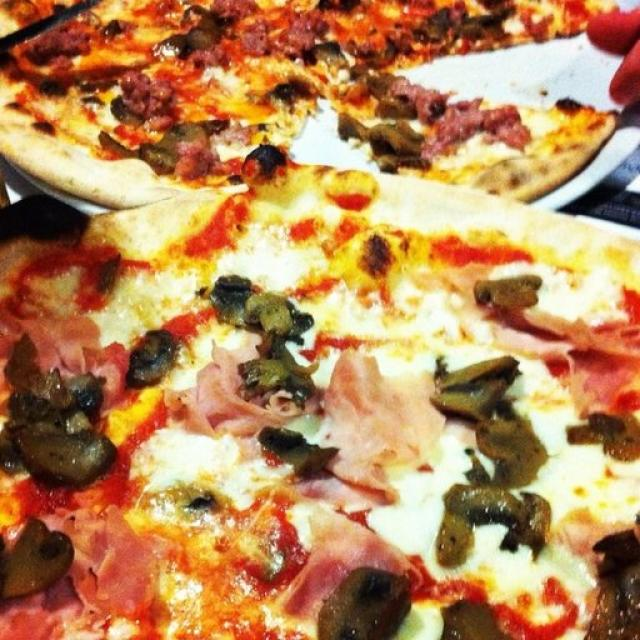Beef: (423, 102, 518, 161), (21, 20, 93, 64), (115, 70, 168, 116), (385, 80, 448, 113), (173, 144, 215, 184), (280, 10, 324, 48), (237, 17, 269, 54), (385, 27, 421, 50)
Ham: (285, 342, 443, 514), (0, 503, 175, 640), (295, 511, 441, 640), (488, 294, 640, 401), (173, 344, 317, 436), (24, 312, 130, 393), (436, 514, 473, 564)
Mushrooms: (5, 370, 120, 492), (312, 563, 408, 640), (0, 507, 71, 602), (334, 107, 434, 174), (471, 402, 549, 486), (210, 274, 310, 337), (585, 527, 640, 640), (564, 404, 640, 464), (152, 5, 228, 62), (433, 359, 512, 408), (442, 584, 508, 640), (126, 323, 181, 389), (129, 121, 201, 170), (502, 488, 561, 544), (448, 481, 520, 521), (300, 34, 338, 76), (422, 0, 454, 41), (91, 130, 132, 160)
Pizza: (0, 143, 640, 640), (0, 0, 622, 214)
